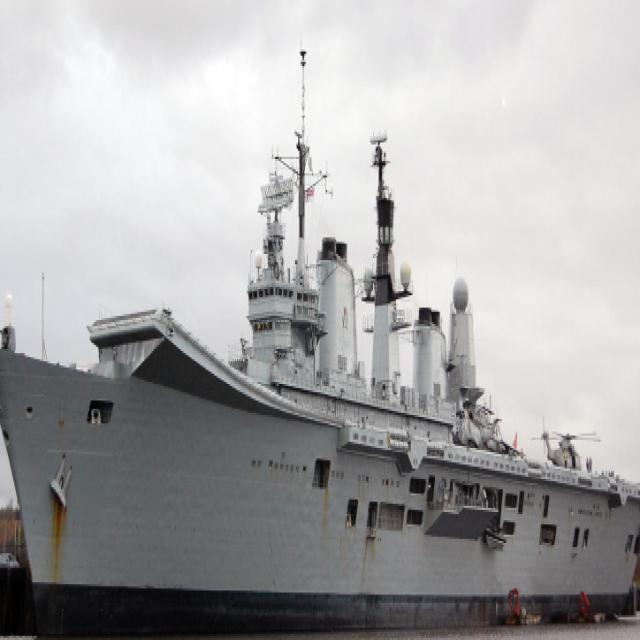Portanaves: (1, 34, 640, 635)
